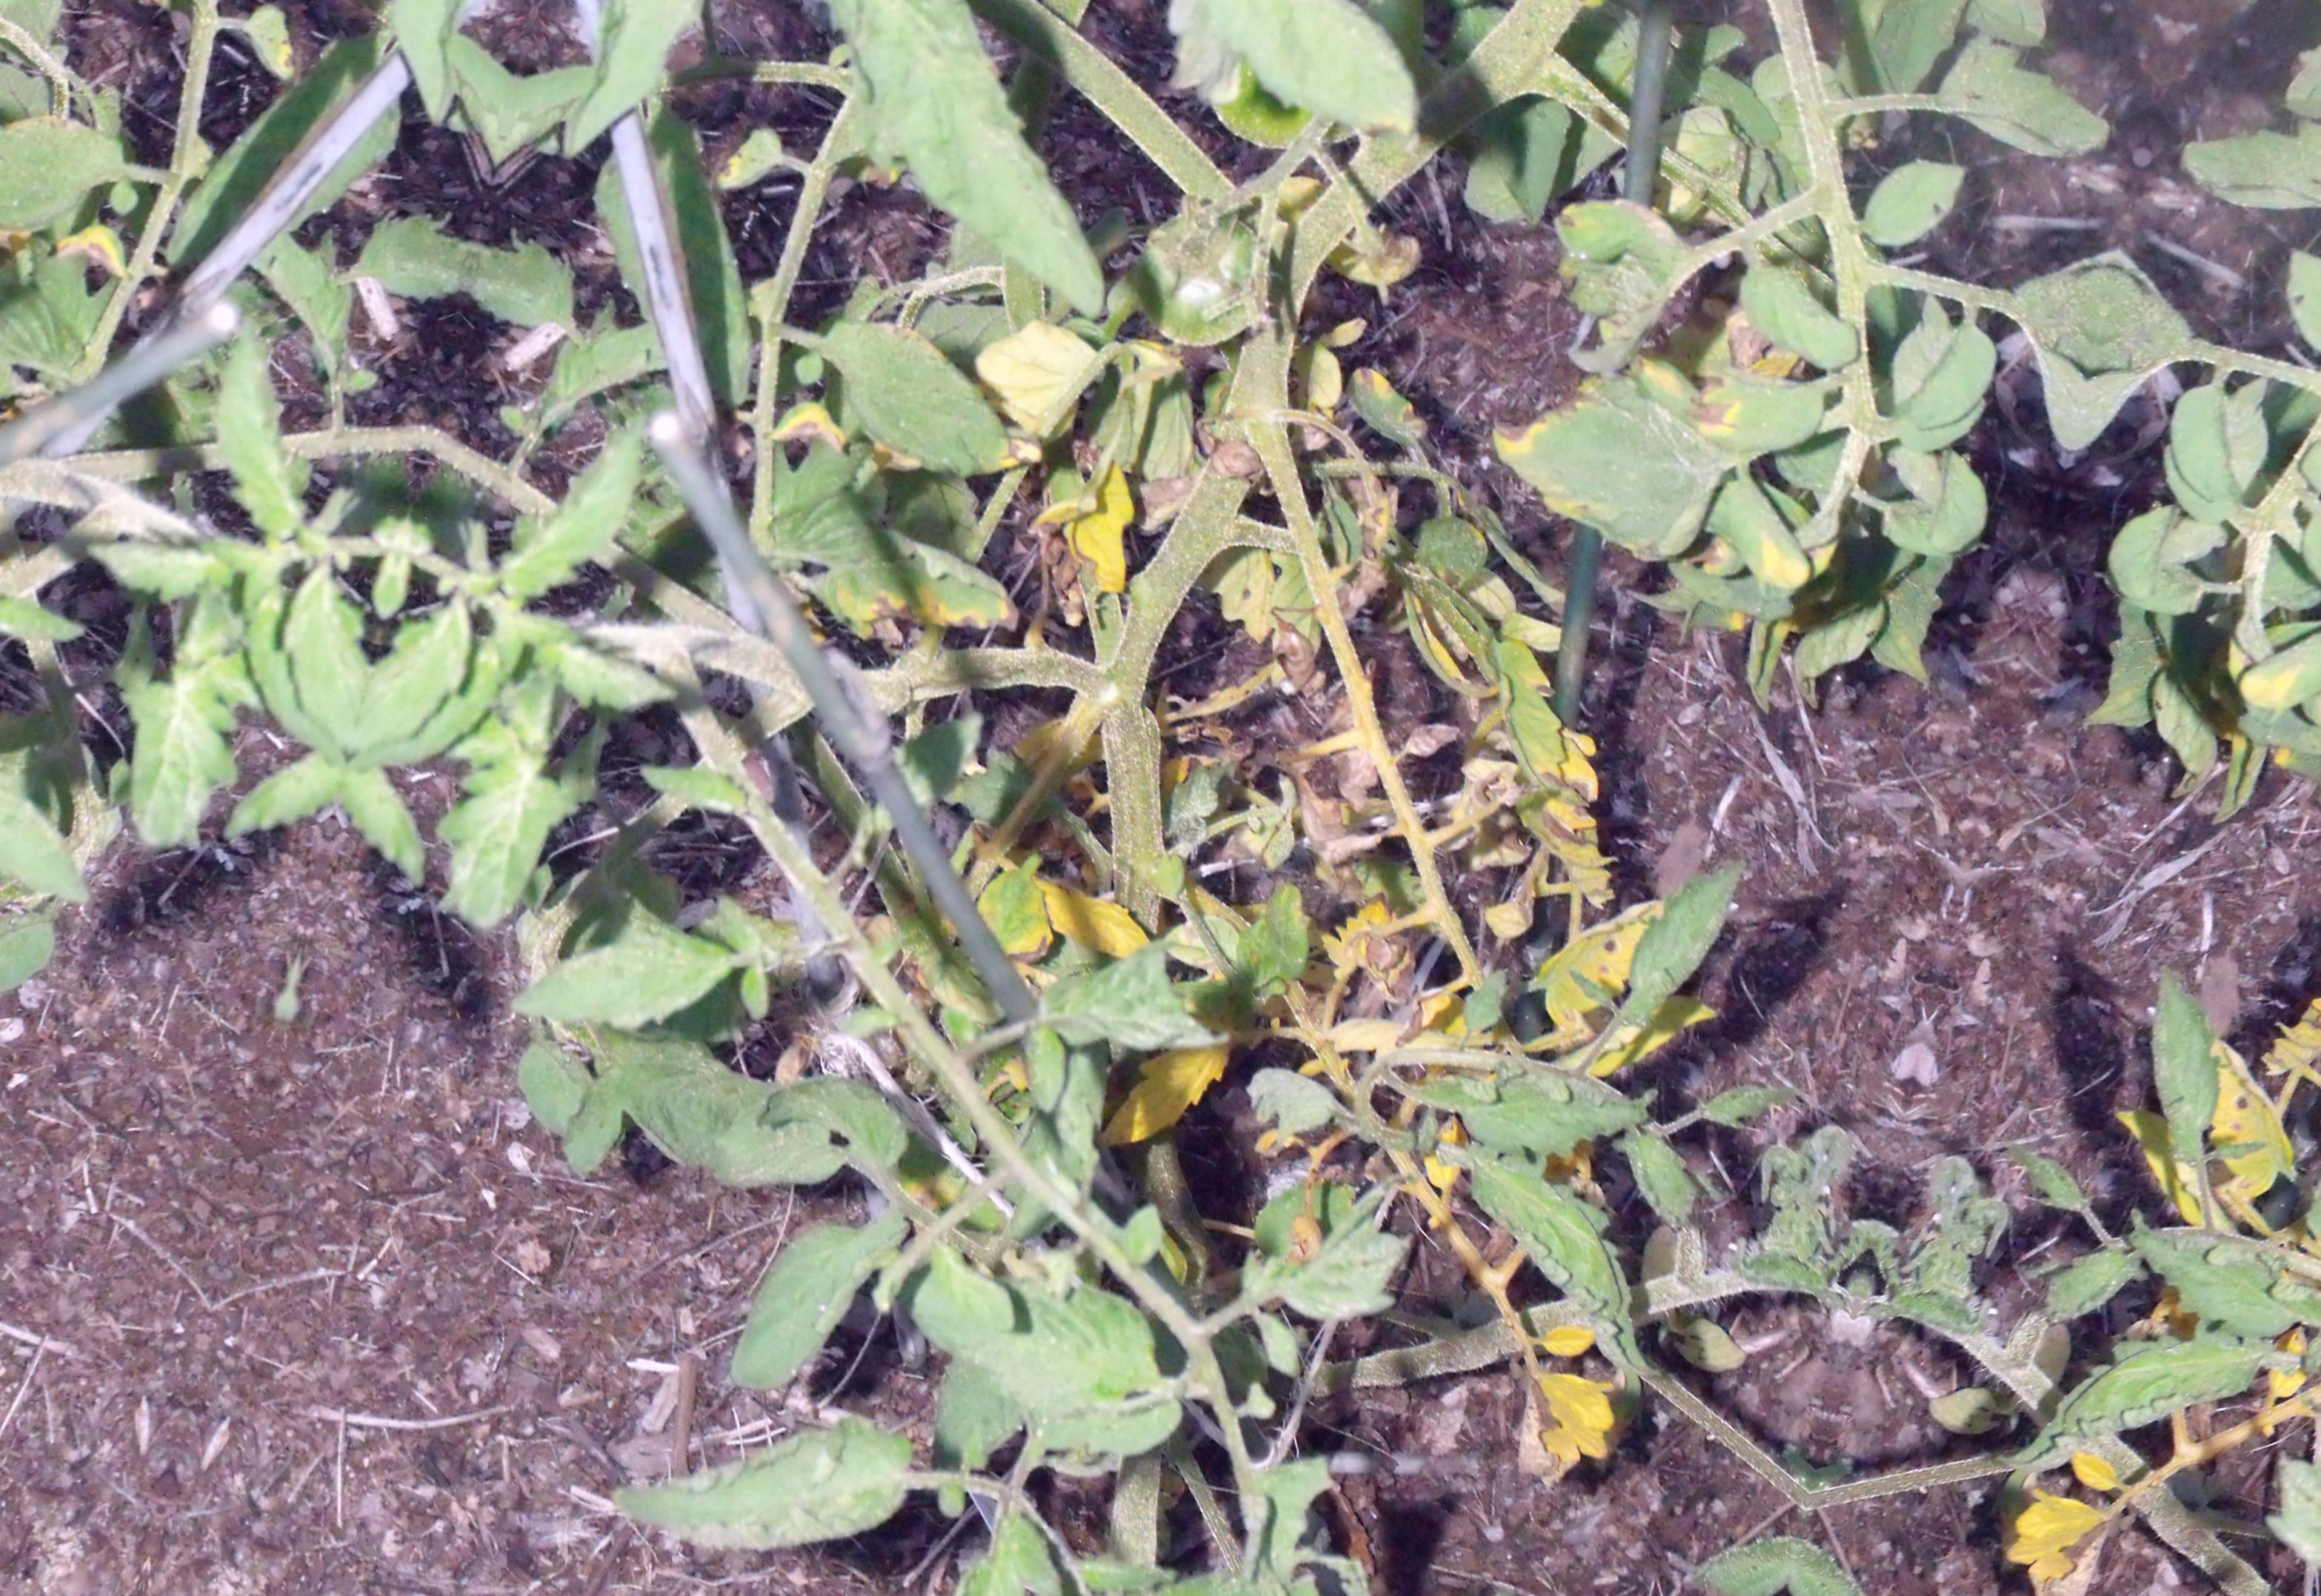Tomato leaf bacterial spot: (739, 0, 1187, 303), (386, 589, 633, 968), (725, 434, 1060, 707), (1471, 310, 1772, 605), (506, 825, 797, 1116), (705, 1139, 959, 1444), (1376, 1108, 1697, 1347), (776, 296, 1078, 543), (1478, 168, 1755, 379), (1118, 0, 1474, 162), (515, 0, 780, 206)
